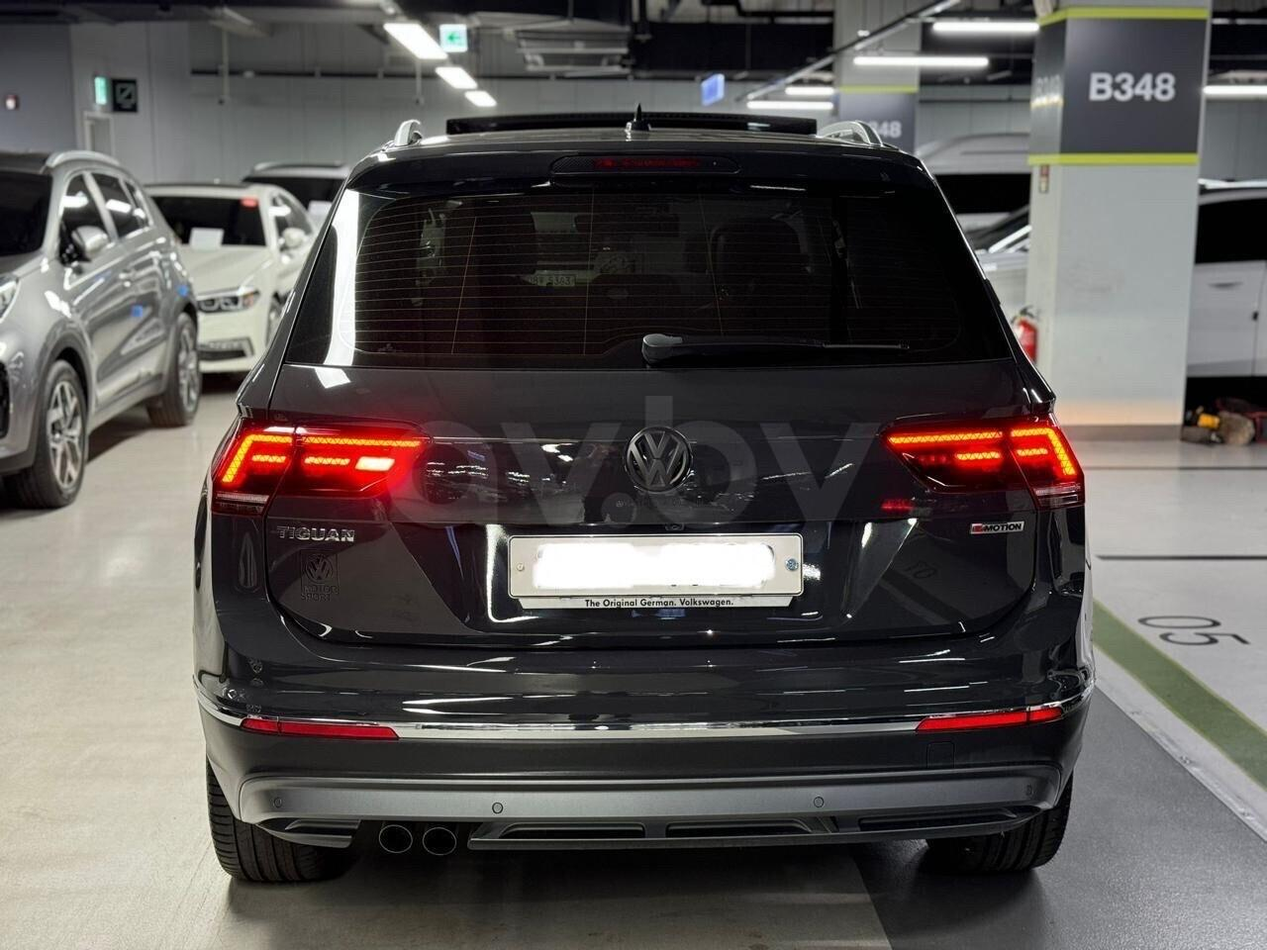Tiguan_2016-2021: (192, 113, 1089, 910)
